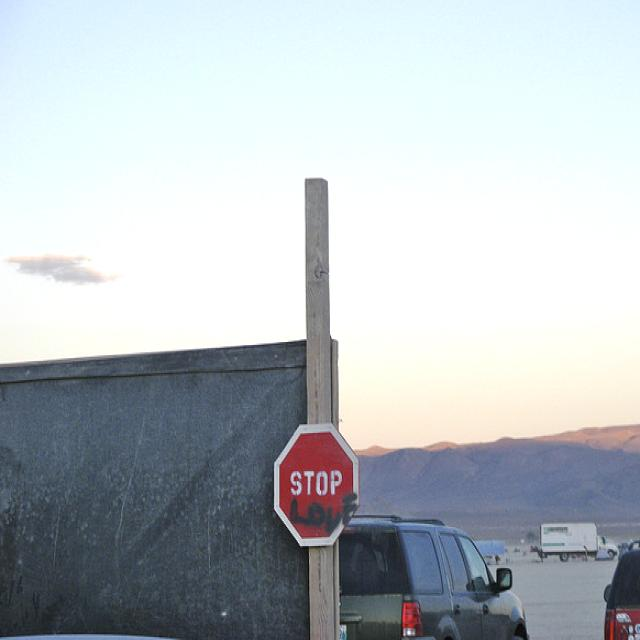Vehicle: (338, 514, 532, 640), (602, 537, 640, 640), (603, 536, 640, 640), (540, 523, 622, 559)
